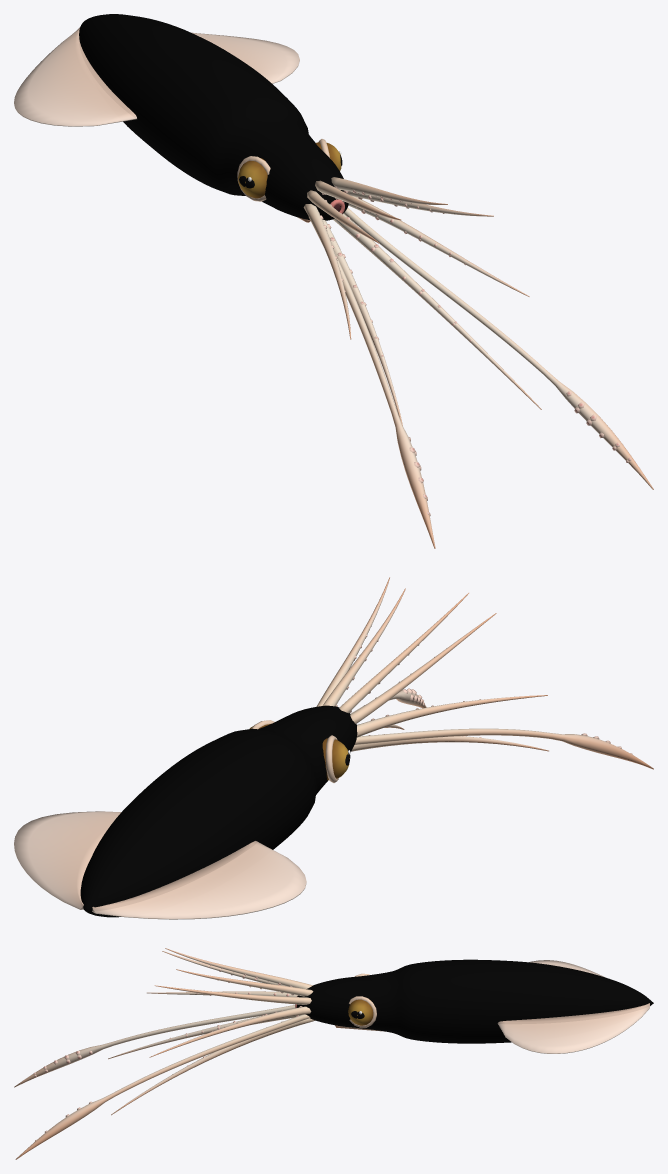
Rendered from squid.glb.
3 views of the same model, one above another, from view 1: azimuth 30°, elevation 25°; view 2: azimuth 150°, elevation 25°; view 3: azimuth 270°, elevation 25° (orthographic). The views are drawn at different scales.
Visible parts, largest first — view 1: Body, Fin_L, Tentacle_R, Tentacle_L, Fin_R, Arm_IV_R, Arm_IV_L, Arm_III_R, Eye_L, Arm_III_L, Arm_I_R; view 2: Body, Fin_L, Fin_R, Tentacle_L, Arm_III_L, Arm_II_L, Arm_I_L, Arm_IV_L, Arm_I_R, Eye_L, Arm_II_R; view 3: Body, Fin_R, Tentacle_R, Tentacle_L, Arm_IV_R, Arm_III_R, Arm_II_R, Arm_I_L, Eye_R, Arm_I_R, Arm_IV_L, Arm_III_L (+1 smaller).
Part boxes in pixels (box(x1,y1,x2,y2)): Body: box(79, 14, 348, 220); Fin_L: box(14, 27, 136, 126); Tentacle_R: box(343, 207, 653, 489); Tentacle_L: box(309, 217, 435, 548); Fin_R: box(191, 32, 299, 83); Arm_IV_R: box(333, 213, 541, 409); Arm_IV_L: box(322, 219, 402, 425); Arm_III_R: box(348, 196, 529, 296); Eye_L: box(237, 156, 270, 201); Arm_III_L: box(303, 204, 351, 339); Arm_I_R: box(331, 177, 447, 204); Body: box(80, 705, 357, 917); Fin_L: box(92, 841, 306, 919); Fin_R: box(14, 811, 121, 909); Tentacle_L: box(354, 728, 653, 769); Arm_III_L: box(357, 695, 547, 737); Arm_II_L: box(350, 613, 496, 723); Arm_I_L: box(339, 593, 468, 713); Arm_IV_L: box(351, 734, 548, 751); Arm_I_R: box(322, 588, 405, 706); Eye_L: box(322, 735, 350, 782); Arm_II_R: box(316, 577, 389, 706); Body: box(297, 959, 653, 1043); Fin_R: box(497, 1003, 649, 1053); Tentacle_R: box(15, 1014, 310, 1159); Tentacle_L: box(14, 1005, 295, 1087); Arm_IV_R: box(111, 1015, 315, 1115); Arm_III_R: box(149, 1006, 311, 1057); Arm_II_R: box(154, 985, 311, 1004); Arm_I_L: box(165, 948, 312, 988); Eye_R: box(348, 996, 376, 1027); Arm_I_R: box(176, 969, 313, 996); Arm_IV_L: box(108, 1010, 300, 1059); Arm_III_L: box(147, 991, 297, 996).
Bounding box in the file's own units: 0.8441 × 0.6948 × 2.45.
Materials: 4 (1 with a texture image).
